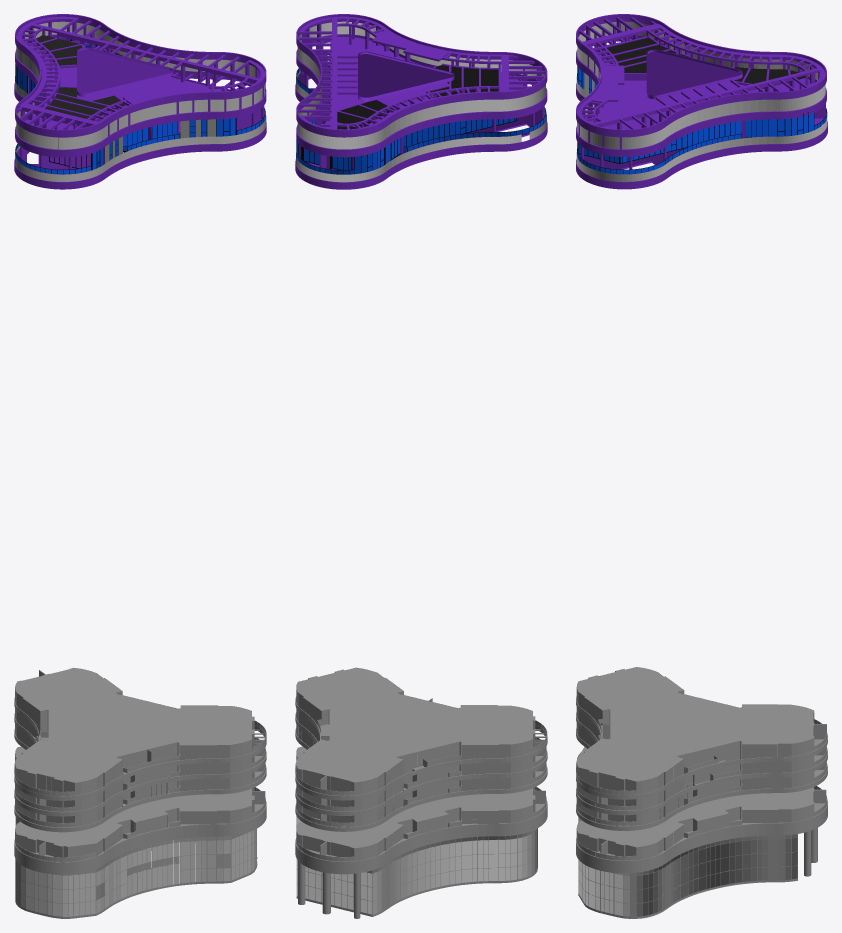
File: Gindi_MainBuilding_js_v2.fbx
3 renders of one model, left to right at view 1: azimuth 30°, elevation 25°; view 2: azimuth 150°, elevation 25°; view 3: azimuth 270°, elevation 25°, orthographic.
Visible parts, largest first — view 1: Roof, 21-43, Lobby, 5-7, 12-20, 8-11; view 2: Roof, 21-43, Lobby, 5-7, 12-20, 8-11; view 3: Roof, 21-43, Lobby, 5-7, 12-20, 8-11.
Part boxes in pixels (x1,y1,x2,y2): Roof: (14, 14, 266, 189); 21-43: (14, 668, 266, 800); Lobby: (14, 772, 266, 918); 5-7: (14, 746, 266, 866); 12-20: (14, 708, 266, 816); 8-11: (14, 724, 266, 832); Roof: (295, 14, 547, 189); 21-43: (295, 667, 547, 800); Lobby: (295, 764, 547, 918); 5-7: (295, 746, 547, 864); 12-20: (295, 709, 547, 815); 8-11: (295, 724, 547, 831); Roof: (576, 14, 827, 189); 21-43: (576, 667, 827, 799); Lobby: (576, 771, 827, 918); 5-7: (576, 746, 827, 865); 12-20: (576, 707, 827, 815); 8-11: (576, 723, 827, 830).
Bounding box in the file's own units: 5193 × 16404 × 4741.
